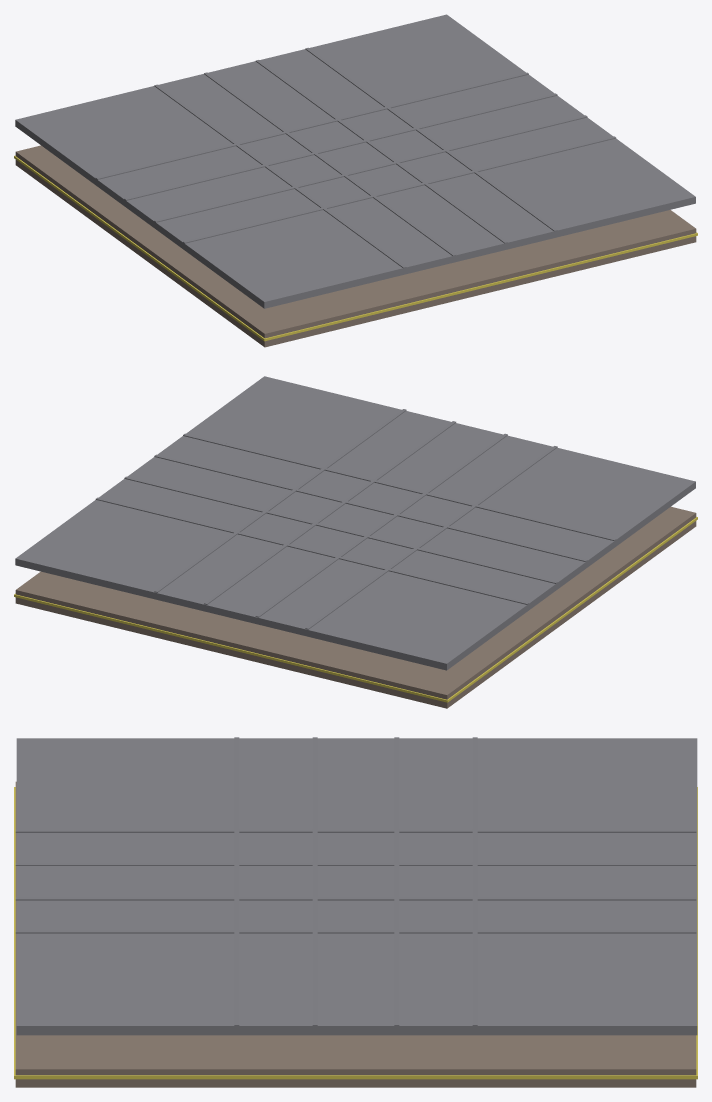
The model's file is conveyor_cross_flat.glb.
3 renders of one model, top to bottom at view 1: azimuth 30°, elevation 25°; view 2: azimuth 150°, elevation 25°; view 3: azimuth 270°, elevation 25°, orthographic. The views are drawn at different scales.
Parts seen in each view (by area): view 1: BeltSurface, BasePlate, HazardStripe, BeltGroove_x3, BeltGroove_x1, BeltGroove_x0, BeltGroove_x2, BeltGroove_y1, BeltGroove_y3, BeltGroove_y2, BeltGroove_y0; view 2: BeltSurface, BasePlate, HazardStripe, BeltGroove_x0, BeltGroove_x2, BeltGroove_x1, BeltGroove_x3, BeltGroove_y0, BeltGroove_y2, BeltGroove_y1, BeltGroove_y3; view 3: BeltSurface, BasePlate, HazardStripe, BeltGroove_y2, BeltGroove_y3, BeltGroove_y1, BeltGroove_y0, BeltGroove_x0, BeltGroove_x1, BeltGroove_x2, BeltGroove_x3.
Boxes of the visible parts, left/top/right/bottom form: BeltSurface: left=15, top=14, right=695, bottom=308; BasePlate: left=15, top=145, right=696, bottom=347; HazardStripe: left=14, top=155, right=697, bottom=341; BeltGroove_x3: left=95, top=72, right=528, bottom=179; BeltGroove_x1: left=154, top=115, right=587, bottom=222; BeltGroove_x0: left=183, top=136, right=616, bottom=243; BeltGroove_x2: left=124, top=93, right=557, bottom=200; BeltGroove_y1: left=204, top=72, right=456, bottom=256; BeltGroove_y3: left=305, top=47, right=557, bottom=231; BeltGroove_y2: left=255, top=60, right=507, bottom=243; BeltGroove_y0: left=154, top=84, right=406, bottom=268; BeltSurface: left=15, top=376, right=695, bottom=670; BasePlate: left=15, top=506, right=696, bottom=708; HazardStripe: left=14, top=517, right=697, bottom=702; BeltGroove_x0: left=183, top=433, right=616, bottom=540; BeltGroove_x2: left=124, top=476, right=557, bottom=583; BeltGroove_x1: left=154, top=454, right=587, bottom=561; BeltGroove_x3: left=95, top=497, right=528, bottom=604; BeltGroove_y0: left=305, top=446, right=557, bottom=629; BeltGroove_y2: left=204, top=421, right=456, bottom=604; BeltGroove_y1: left=255, top=433, right=507, bottom=617; BeltGroove_y3: left=154, top=409, right=406, bottom=592; BeltSurface: left=16, top=738, right=697, bottom=1035; BasePlate: left=15, top=781, right=696, bottom=1087; HazardStripe: left=14, top=787, right=697, bottom=1079; BeltGroove_y2: left=15, top=897, right=696, bottom=900; BeltGroove_y3: left=15, top=930, right=696, bottom=933; BeltGroove_y1: left=15, top=862, right=696, bottom=865; BeltGroove_y0: left=15, top=829, right=696, bottom=832; BeltGroove_x0: left=234, top=737, right=239, bottom=1025; BeltGroove_x1: left=312, top=737, right=317, bottom=1025; BeltGroove_x2: left=394, top=737, right=399, bottom=1025; BeltGroove_x3: left=472, top=737, right=477, bottom=1025.
Size of the model in its own units: 1 by 0.102 by 1.
